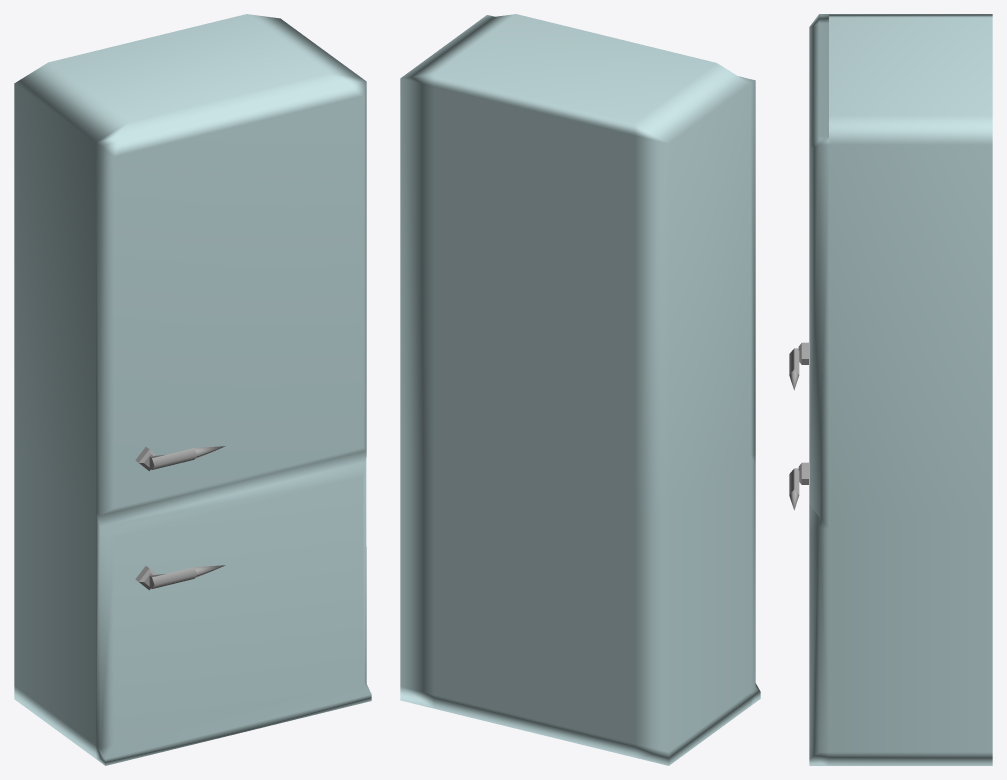
Rendered from Reizoko.fbx.
3 views of the same model, side by side, from view 1: azimuth 30°, elevation 25°; view 2: azimuth 150°, elevation 25°; view 3: azimuth 270°, elevation 25° (orthographic).
Visible parts, largest first — view 1: pCube9, pCube32, pCube30; view 2: pCube9; view 3: pCube9, pCube30, pCube32.
Part boxes in pixels (<box>): pCube9: <box>14,14,371,765</box>; pCube32: <box>149,565,225,588</box>; pCube30: <box>149,446,225,469</box>; pCube9: <box>400,14,760,765</box>; pCube9: <box>809,14,992,765</box>; pCube30: <box>789,348,799,390</box>; pCube32: <box>789,468,799,510</box>.
Size of the model in its own units: 455 by 1027 by 299.
